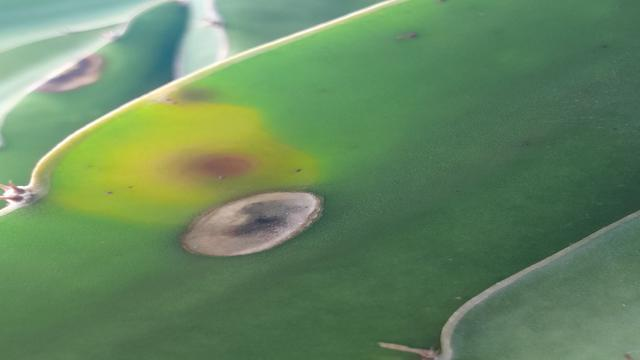stemcanker: (171, 185, 331, 261), (136, 145, 280, 184)
